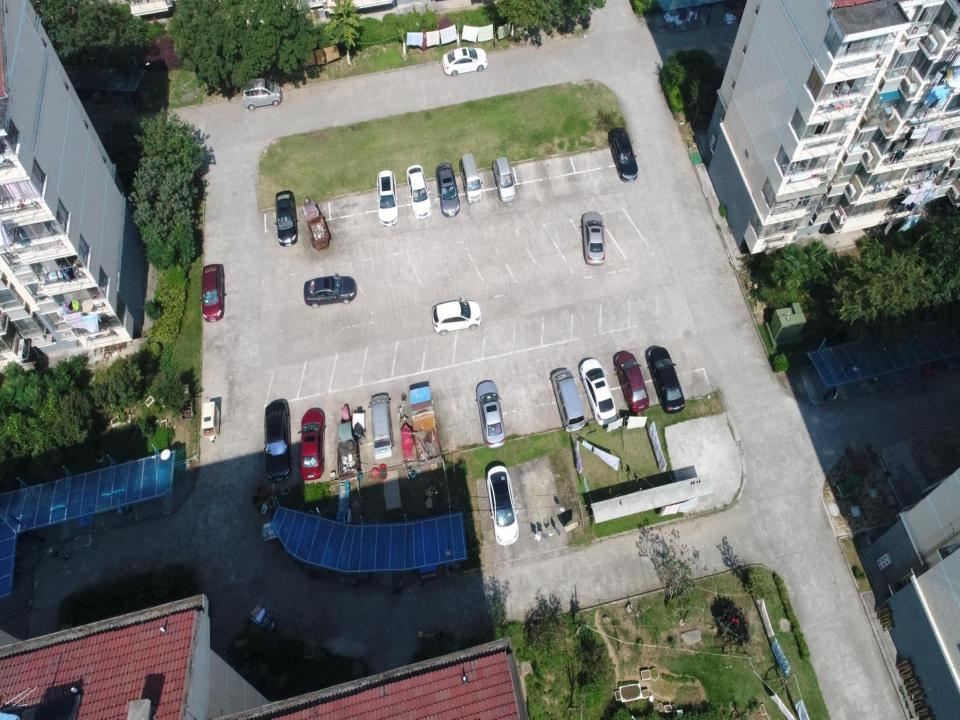car: (646, 345, 685, 413), (577, 358, 616, 425), (614, 350, 650, 410), (264, 403, 291, 480), (476, 382, 506, 449), (430, 299, 482, 334), (301, 275, 357, 305), (300, 408, 324, 478), (609, 130, 639, 182), (202, 263, 226, 322), (406, 165, 432, 219), (442, 46, 488, 76), (274, 189, 298, 246), (435, 163, 460, 217), (582, 210, 605, 266), (376, 170, 398, 226), (492, 156, 515, 202)
truck: (408, 386, 442, 466)
van: (487, 463, 519, 544), (551, 370, 585, 432), (372, 394, 395, 456), (241, 77, 282, 109), (459, 152, 482, 204)
